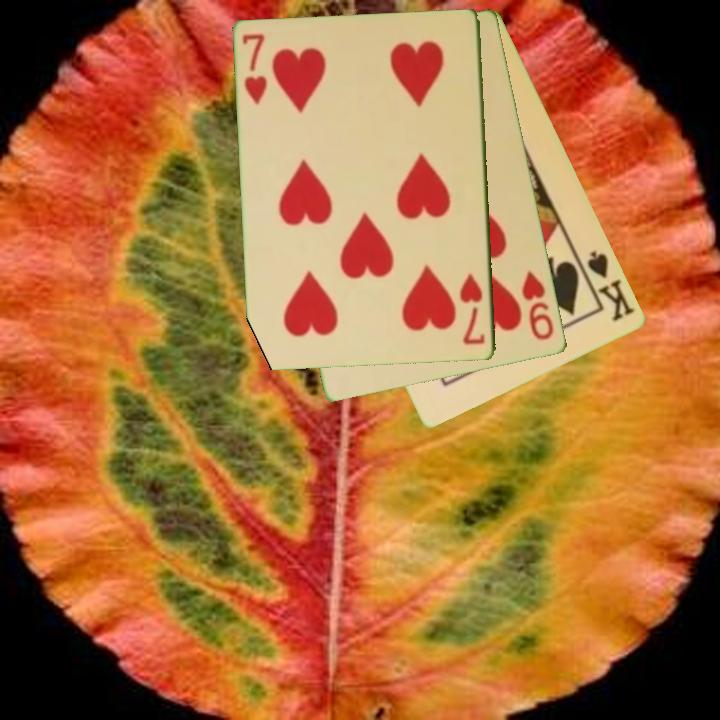7h: (239, 30, 271, 108), (457, 269, 488, 348)
9h: (518, 267, 557, 343)
Ks: (575, 247, 639, 325)
